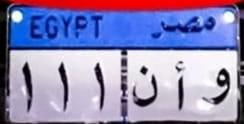1: (55, 61, 73, 111), (93, 60, 108, 111), (21, 61, 34, 112)
أ: (170, 58, 189, 112)
ن: (130, 63, 160, 109)
و: (198, 63, 234, 111)
